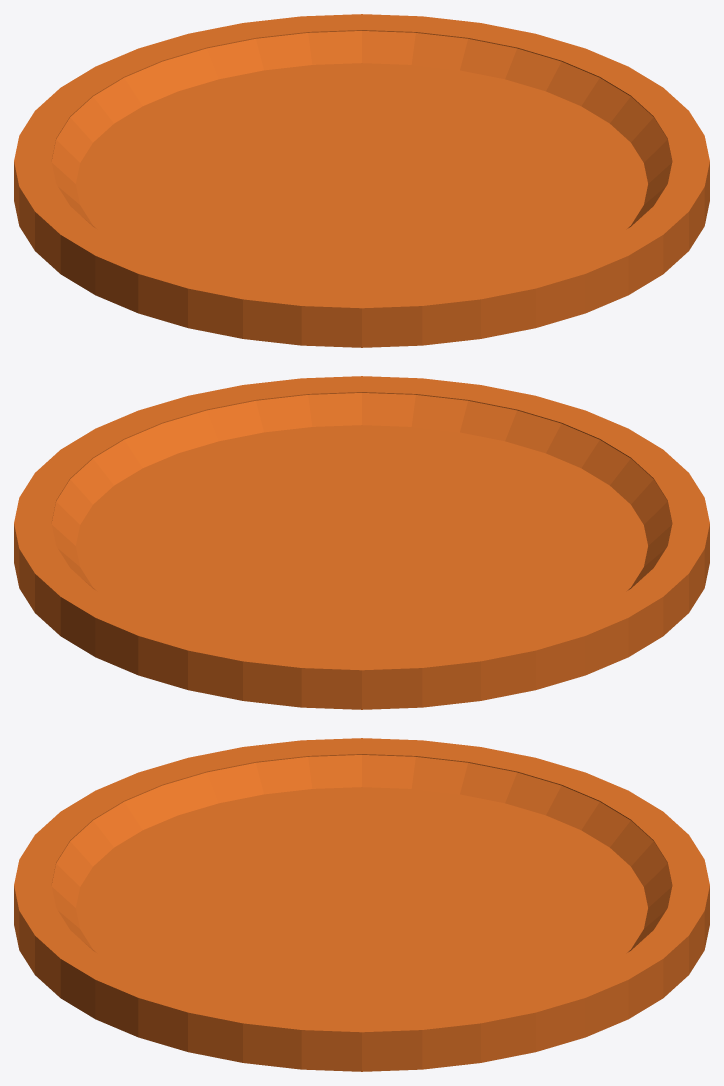
Rendered from coin.fbx.
3 views of the same model, one above another, from view 1: azimuth 30°, elevation 25°; view 2: azimuth 150°, elevation 25°; view 3: azimuth 270°, elevation 25° (orthographic).
Visible parts, largest first — view 1: Цилиндр; view 2: Цилиндр; view 3: Цилиндр.
Part boxes in pixels (x1,y1,x2,y2): Цилиндр: (14, 14, 709, 347); Цилиндр: (14, 376, 709, 709); Цилиндр: (14, 738, 709, 1071).
Bounding box in the file's own units: 200 × 12.56 × 200.
